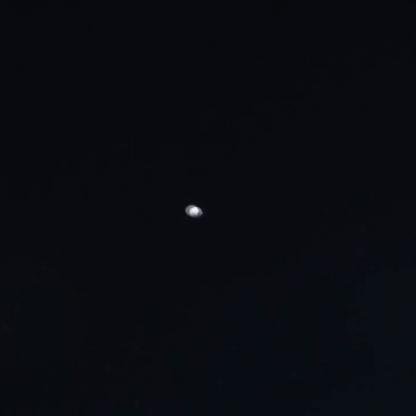ball: (179, 201, 205, 219)
